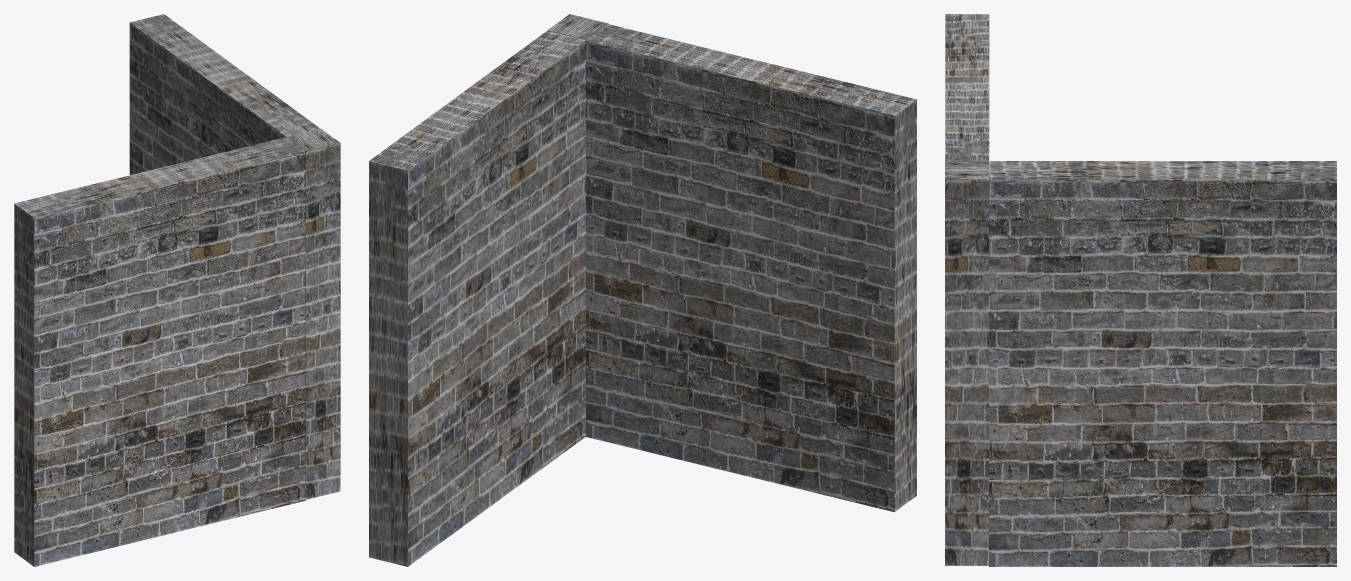
Rendered from stone_corner.fbx.
3 views of the same model, side by side, from view 1: azimuth 30°, elevation 25°; view 2: azimuth 150°, elevation 25°; view 3: azimuth 270°, elevation 25° (orthographic). The views are drawn at different scales.
Parts seen in each view (by area): view 1: stone_corner; view 2: stone_corner; view 3: stone_corner.
Boxes of the visible parts, x1,y1,x2,y2 form: stone_corner: (14,14,340,566); stone_corner: (369,14,916,566); stone_corner: (945,14,1336,566).
Size of the model in its own units: 287 by 313 by 287.
3 materials, 3 textured.
